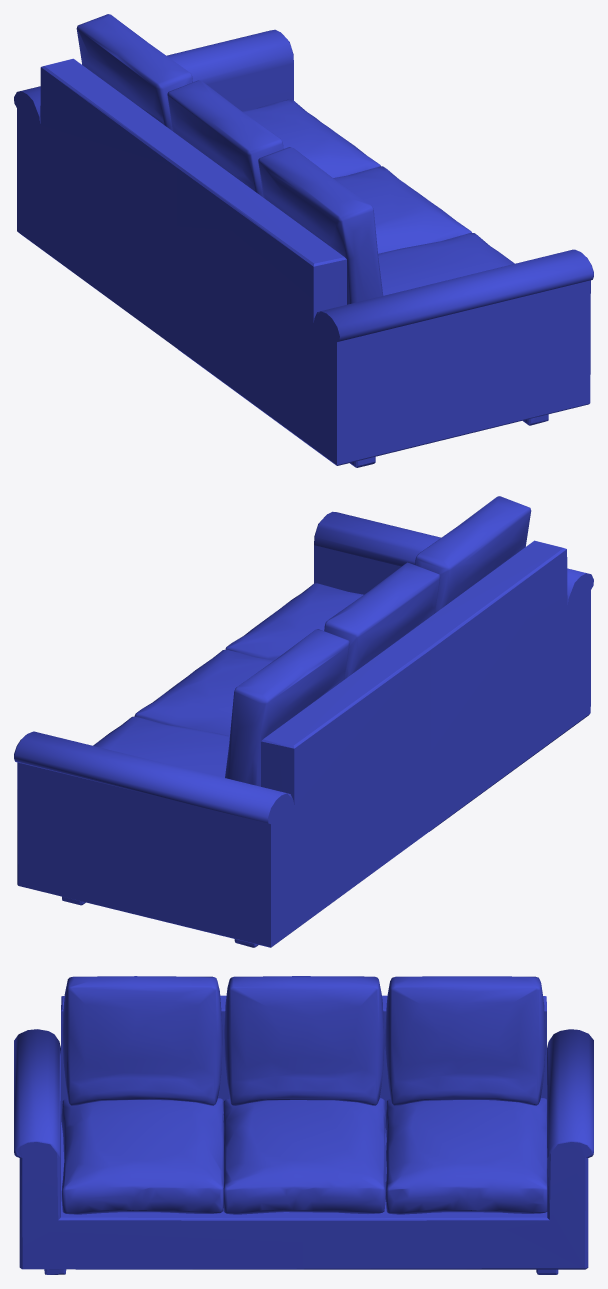
File: Fixhult.fbx
3 renders of one model, top to bottom at view 1: azimuth 30°, elevation 25°; view 2: azimuth 150°, elevation 25°; view 3: azimuth 270°, elevation 25°, orthographic. The views are drawn at different scales.
Parts seen in each view (by area): view 1: Fixhult; view 2: Fixhult; view 3: Fixhult.
Part boxes in pixels (x1=…): Fixhult: x1=14, y1=14, x2=593, y2=467; Fixhult: x1=14, y1=496, x2=593, y2=947; Fixhult: x1=14, y1=976, x2=593, y2=1274.
Bounding box in the file's own units: 3.23 × 3 × 7.14.
